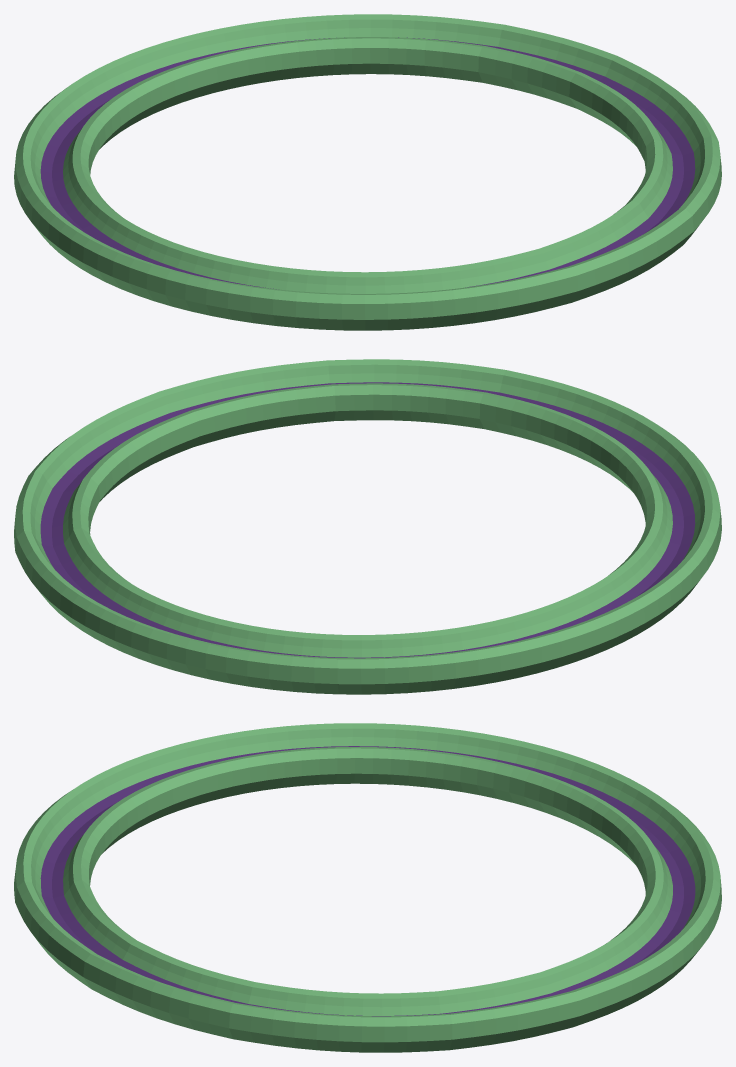
The model's file is level5fixbase.fbx.
3 renders of one model, top to bottom at view 1: azimuth 30°, elevation 25°; view 2: azimuth 150°, elevation 25°; view 3: azimuth 270°, elevation 25°, orthographic.
Visible parts, largest first — view 1: LEVEL5BASE, fallenpart1; view 2: LEVEL5BASE, fallenpart1; view 3: LEVEL5BASE, fallenpart1.
Part boxes in pixels (x1=…): LEVEL5BASE: x1=14, y1=14, x2=578, y2=330; fallenpart1: x1=478, y1=24, x2=721, y2=302; LEVEL5BASE: x1=15, y1=370, x2=721, y2=694; fallenpart1: x1=14, y1=359, x2=506, y2=550; LEVEL5BASE: x1=14, y1=723, x2=721, y2=1027; fallenpart1: x1=15, y1=880, x2=579, y2=1052.
Bounding box in the file's own units: 702 × 58.26 × 702.
